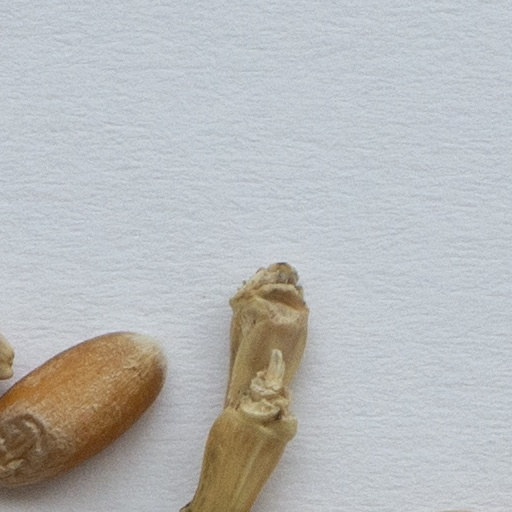Peel-poly: (185, 263, 306, 511)
